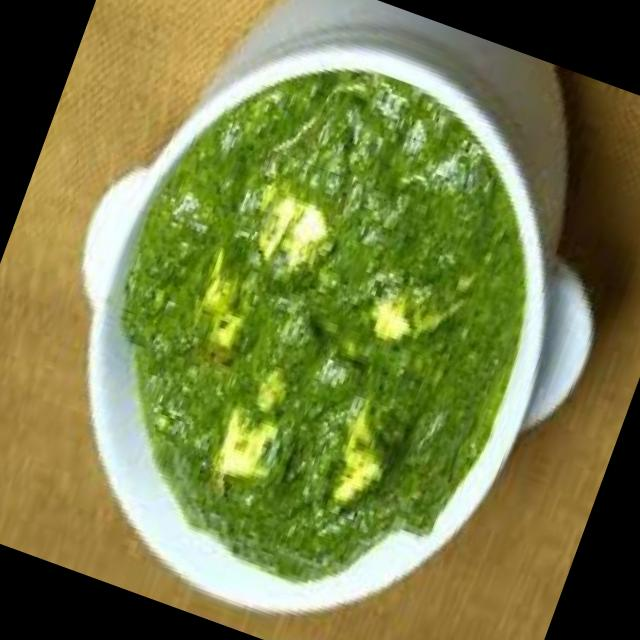palak_paneer: (47, 16, 594, 630)
